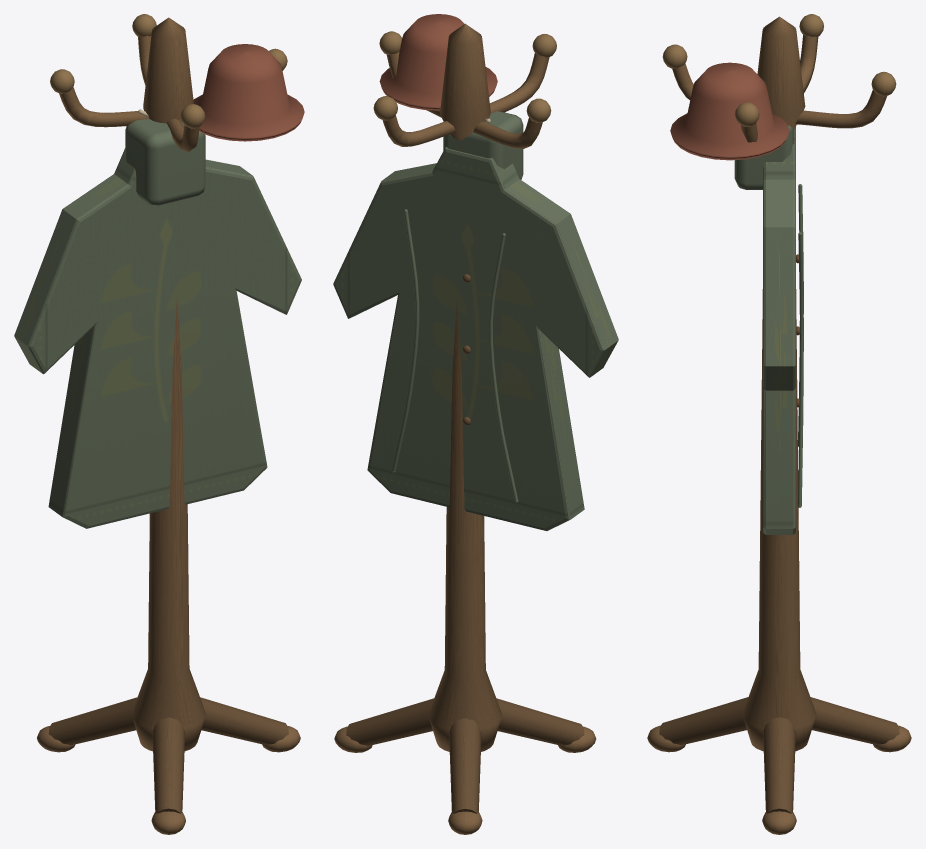
The model's file is perchero.glb.
The picture shows the model from 3 angles, left to right: view 1: azimuth 30°, elevation 25°; view 2: azimuth 150°, elevation 25°; view 3: azimuth 270°, elevation 25°; orthographic projection.
Visible parts, largest first — view 1: perchero; view 2: perchero; view 3: perchero.
Boxes of the visible parts, x1,y1,x2,y2 form: perchero: [14, 14, 304, 834]; perchero: [333, 14, 618, 834]; perchero: [647, 14, 911, 834].
Size of the model in its own units: 0.6468 by 1.69 by 0.5323.
Materials: 1 (1 with a texture image).
